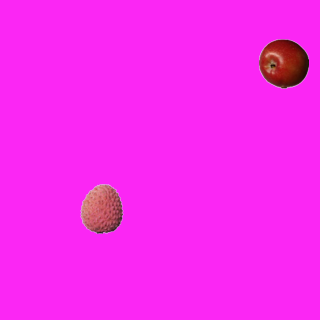Apple Braeburn: (258, 38, 308, 88)
Lychee: (76, 183, 126, 233)
